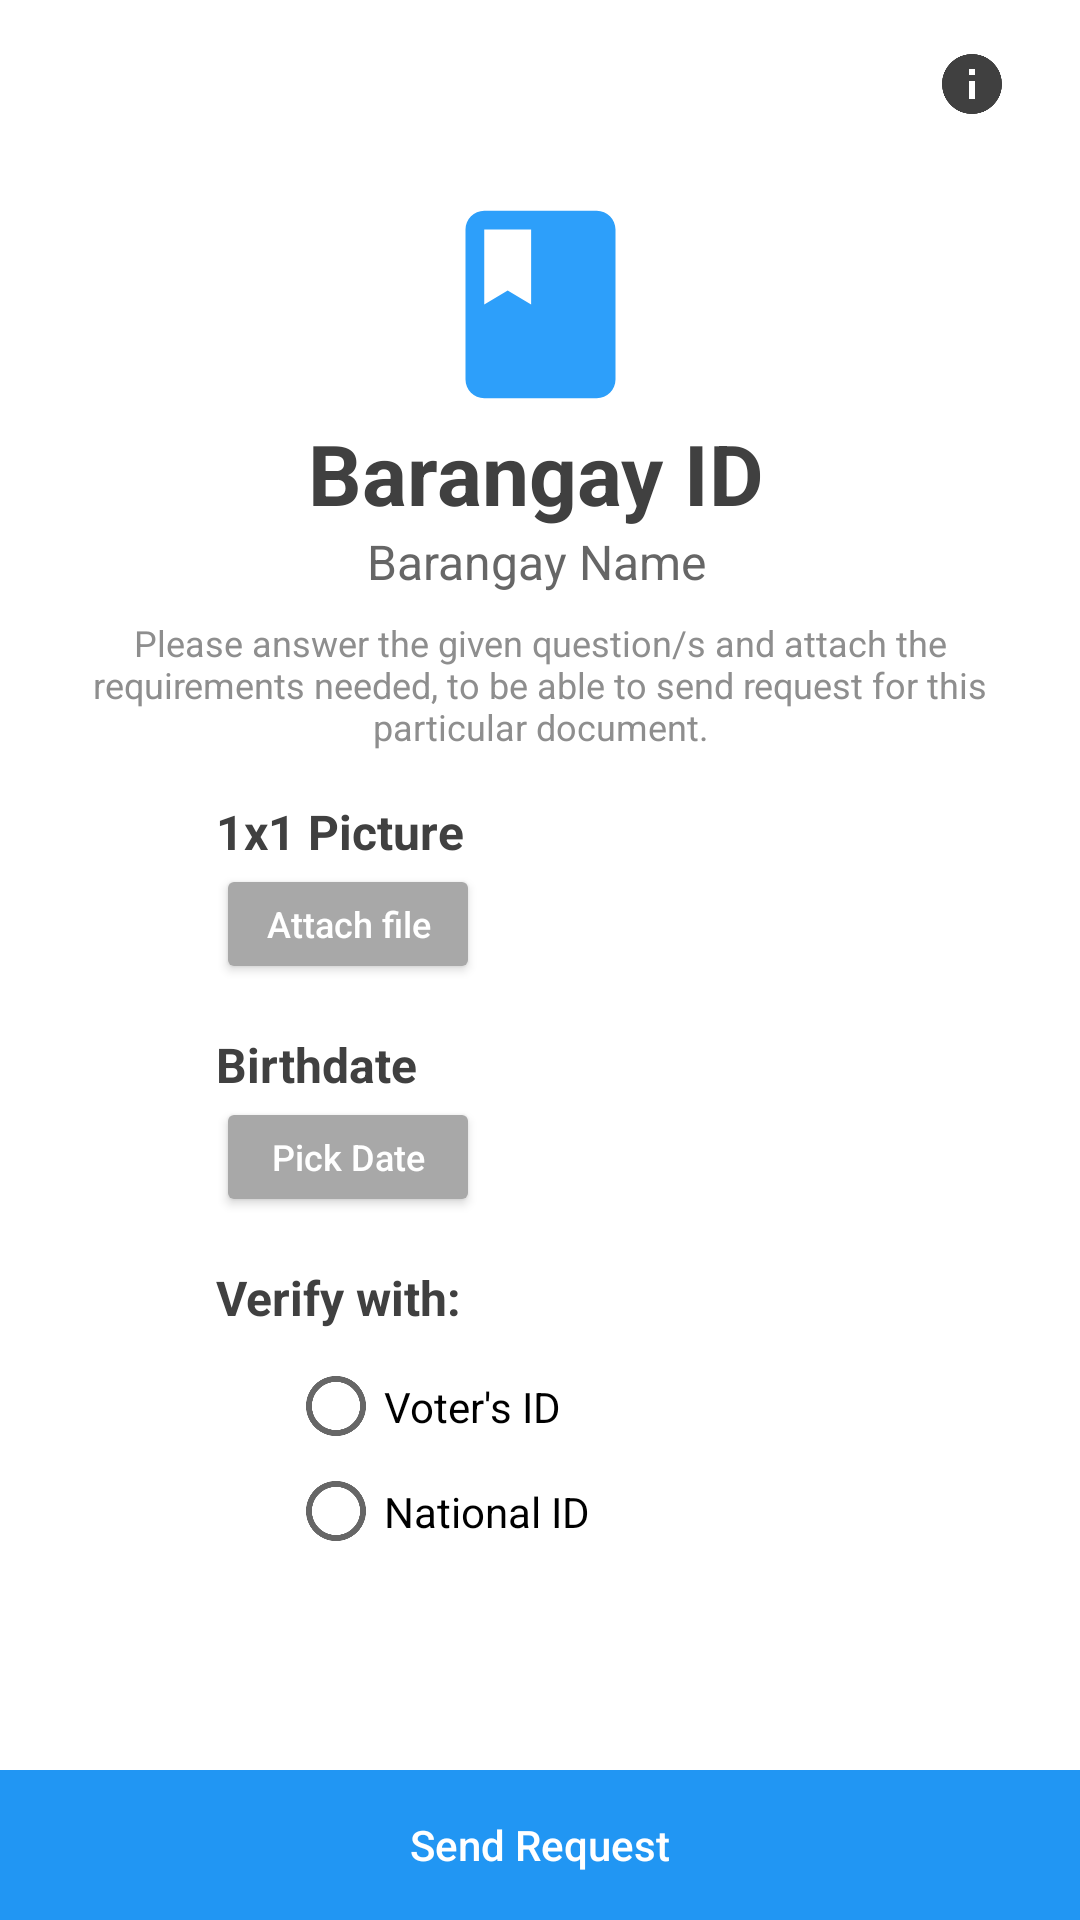

Named icons in this screenshot (1080x1920) and their bounding boxes, region(x1, y1, x2, y2):
class: region(465, 210, 616, 399)
info: region(942, 54, 1002, 114)
